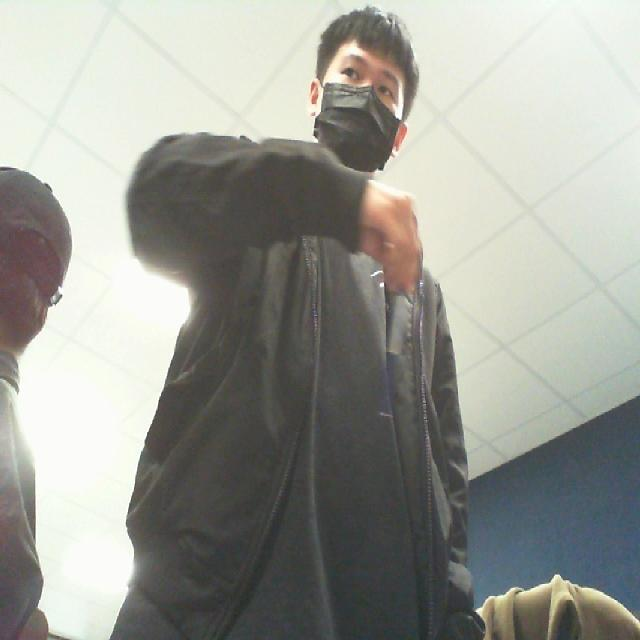Pen: (367, 249, 419, 455)
